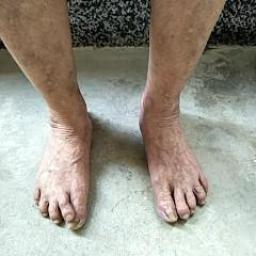Dorsal View -Both Feet-: (14, 72, 221, 246)
